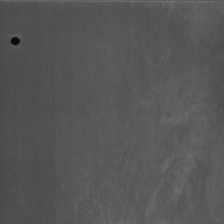punching_hole: (9, 35, 22, 48)
